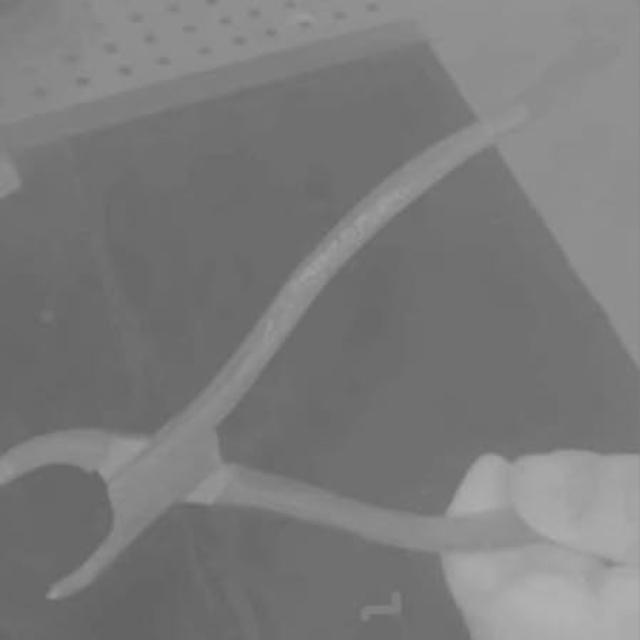forceps: (0, 107, 547, 603)
